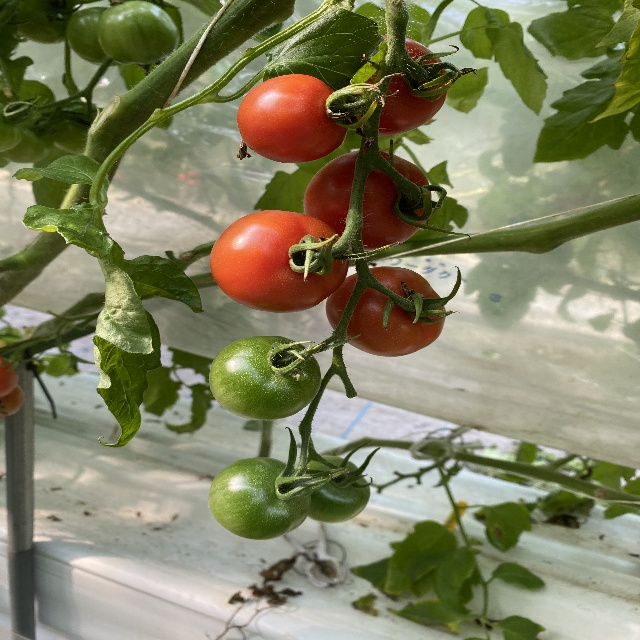l_fully_ripened: (209, 210, 348, 313), (304, 149, 432, 251), (331, 34, 448, 136), (325, 266, 446, 358), (238, 74, 349, 164)
l_green: (208, 335, 321, 420), (208, 457, 311, 540), (97, 0, 180, 64), (296, 456, 371, 522), (65, 6, 126, 67)
